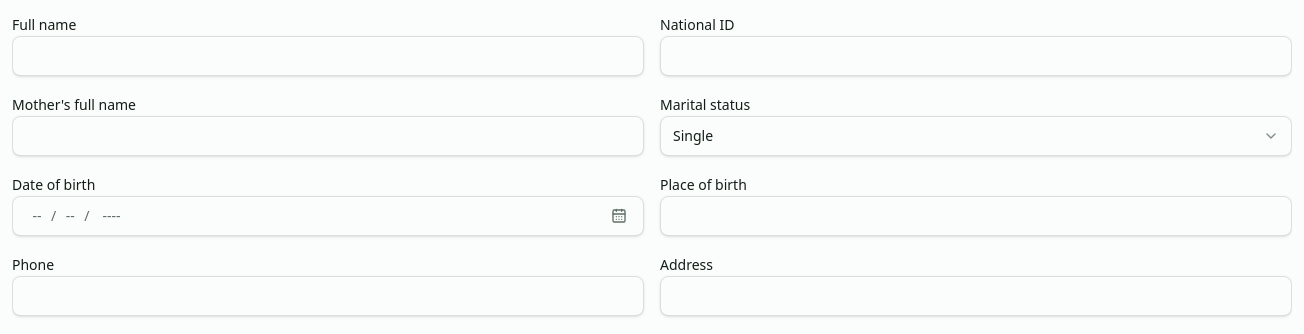
Test: a refused digit does not move the cursor › still inserts an accepted letter where the caret is
This screenshot has width=1304, height=334.
Type "Karwan Ahmed" into the field with id "c-name" at (328, 56), box [12,36,644,76]
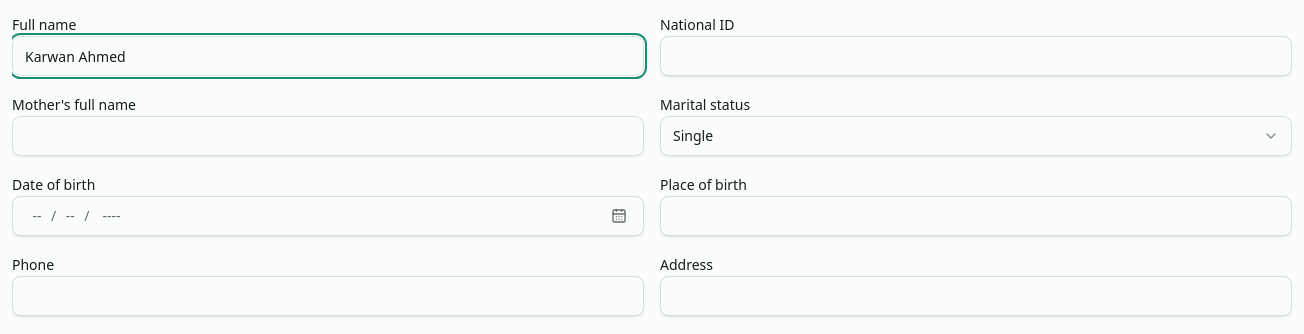
Type "i" into the field with id "c-name" at (328, 56), box [12,36,644,76]
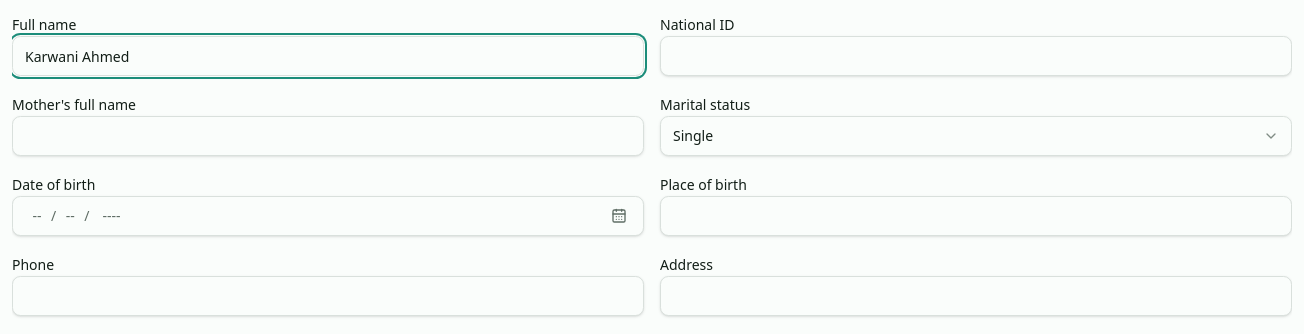
expect the field with id "c-name" holds "Karwani Ahmed": met, box [12,36,644,76]
